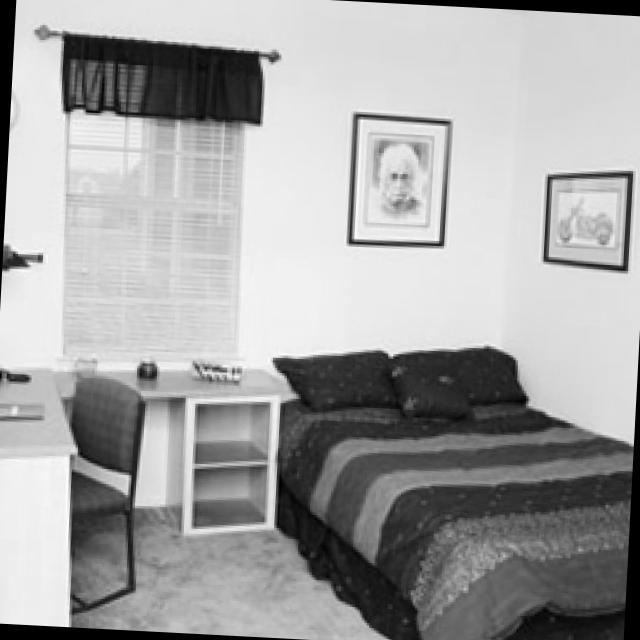bottle crop: (251, 86, 274, 154), (261, 122, 296, 159), (259, 19, 285, 60), (228, 205, 246, 260), (283, 23, 297, 63)
box contants: (150, 210, 183, 265), (279, 110, 298, 161), (471, 133, 492, 165), (445, 141, 467, 162)
floor -X: (0, 512, 626, 640)
hair mask: (193, 48, 283, 63)
kleenex: (257, 186, 308, 257)
magazine: (90, 306, 160, 429)
magazine holder: (98, 326, 159, 419)
plant -x: (81, 92, 248, 200)
rack: (423, 50, 566, 241)
shelf crop: (89, 0, 336, 605), (383, 242, 560, 590)
slippers: (379, 565, 532, 628)
sponge cake: (434, 372, 461, 392)
toilet bowl: (118, 292, 352, 609)
towel basket: (403, 484, 526, 542), (421, 385, 519, 416), (413, 400, 517, 429), (439, 474, 516, 501), (497, 182, 534, 238), (452, 180, 490, 233)
towels: (405, 477, 523, 541), (415, 385, 516, 428), (463, 298, 536, 333)
vase -X: (186, 201, 211, 256)
